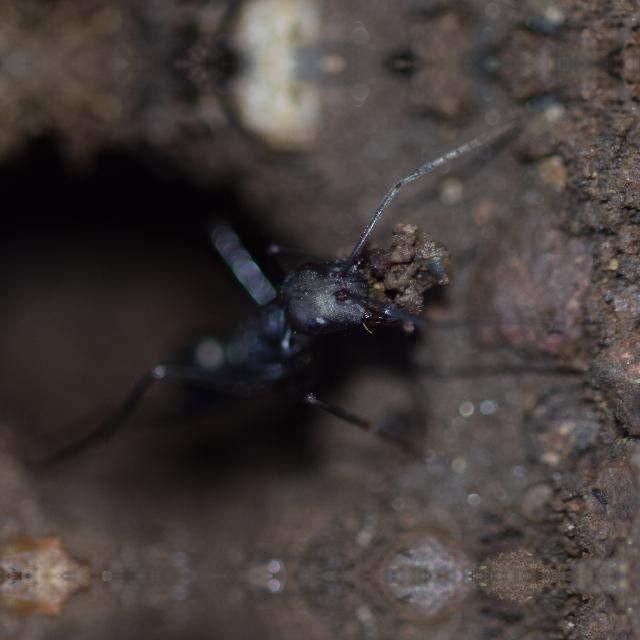Cataglyphis: (99, 194, 445, 478), (590, 485, 612, 507)
